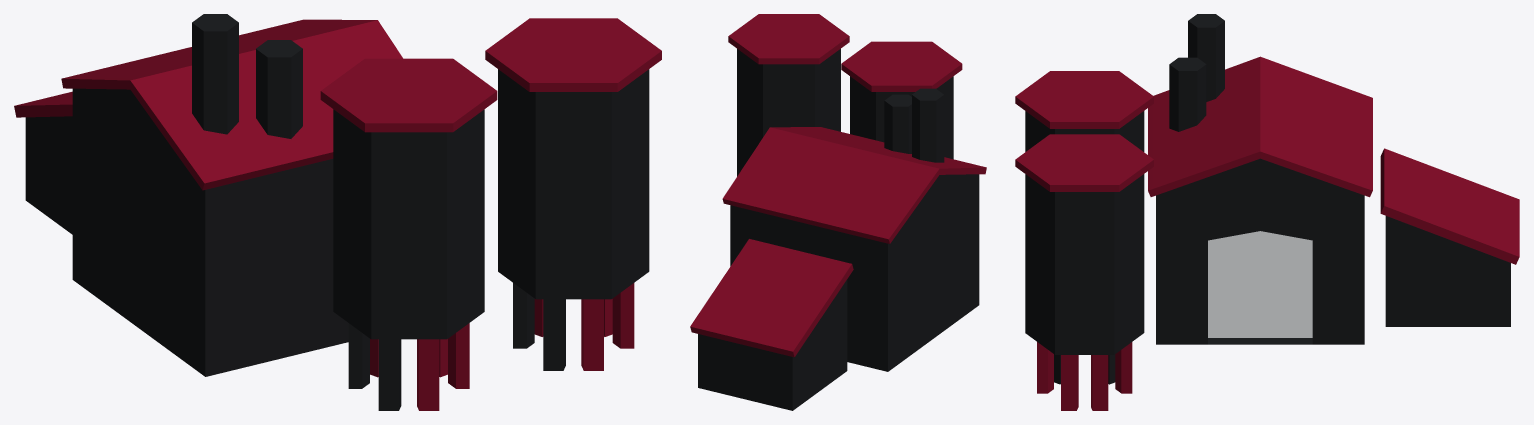
The model's file is Factory3.fbx.
3 views of the same model, side by side, from view 1: azimuth 30°, elevation 25°; view 2: azimuth 150°, elevation 25°; view 3: azimuth 270°, elevation 25° (orthographic). The views are drawn at different scales.
Parts seen in each view (by area): view 1: Cube.006; view 2: Cube.006; view 3: Cube.006.
Boxes of the visible parts, x1,y1,x2,y2 form: Cube.006: (14, 14, 661, 410); Cube.006: (690, 14, 986, 410); Cube.006: (1015, 14, 1519, 410).
Size of the model in its own units: 345 by 280 by 483.
